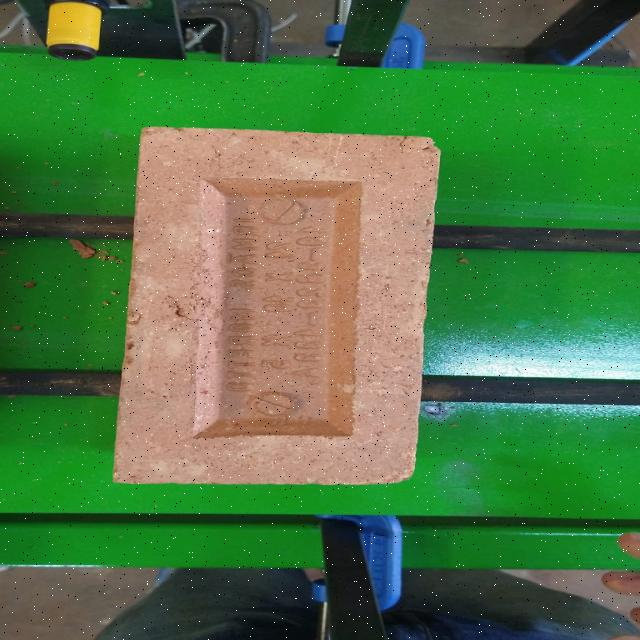bricks: (109, 125, 438, 484)
